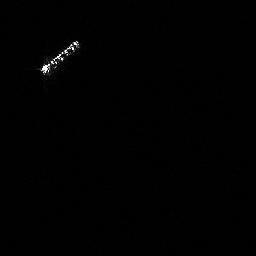ship: (37, 41, 88, 79)
